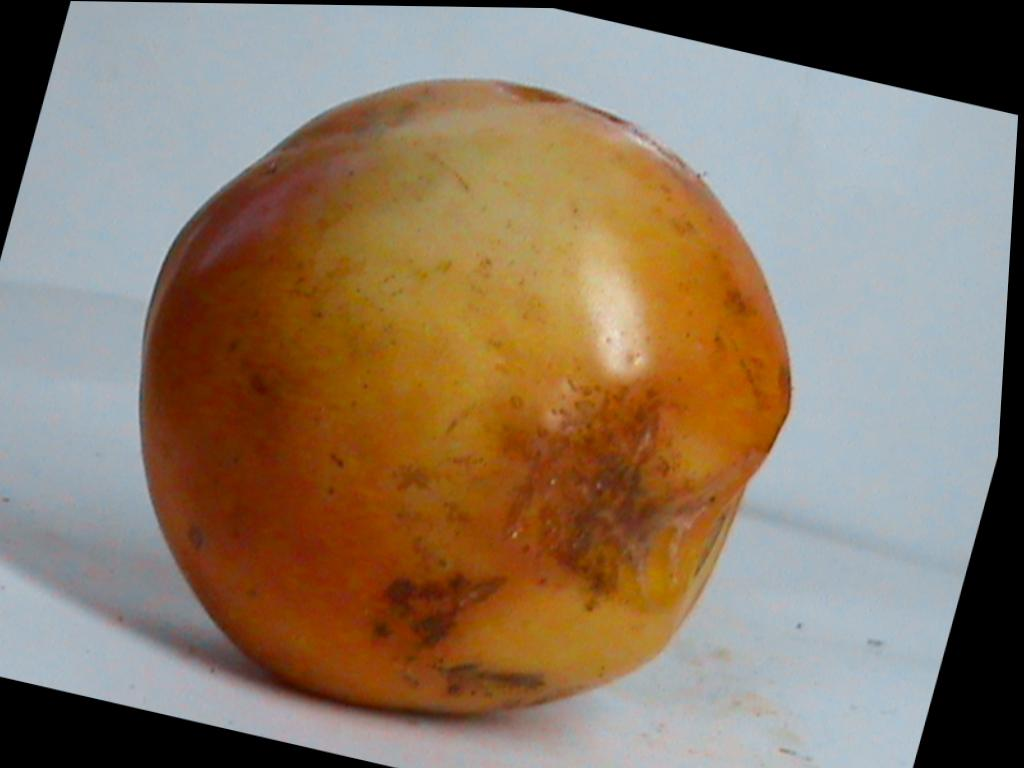bruise_discoloration: (280, 84, 770, 465)
rot_mold_decay: (494, 388, 719, 611), (371, 570, 510, 659), (432, 656, 552, 697)
tomato: (139, 80, 789, 711)
